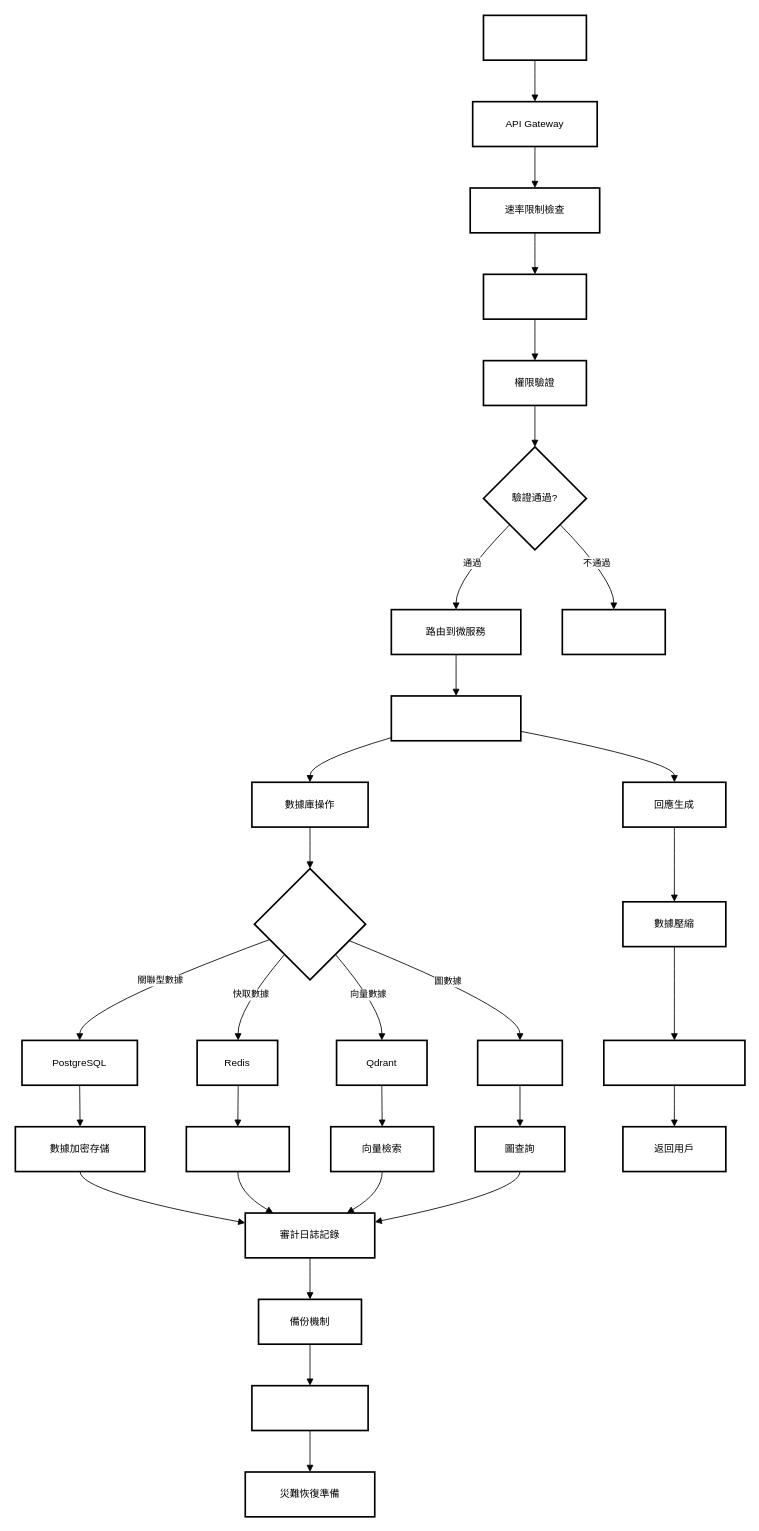
This 759x1531 diagram has some shape labels left out. Here are the shapes that lost their labels. From the top down, the box of each, then its label:
(482, 14, 587, 61): 用戶請求
(482, 273, 587, 320): 身份驗證
(561, 608, 666, 655): 拒絕請求
(390, 695, 521, 741): 業務邏輯處理
(253, 867, 366, 980): 數據庫類型
(476, 1039, 563, 1086): Neo4j
(603, 1039, 745, 1086): HTTPS加密傳輸
(185, 1125, 290, 1172): 會話管理
(251, 1384, 369, 1431): 多地域存儲
